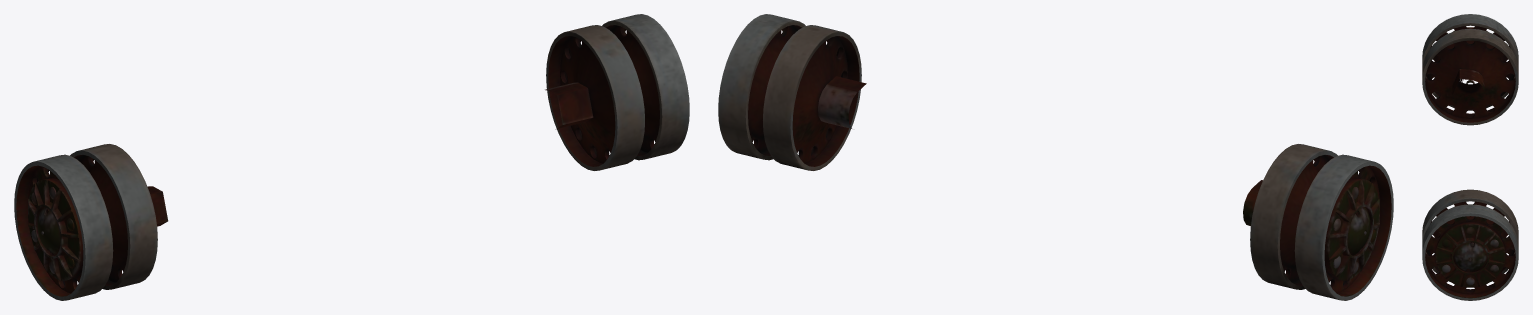
Rendered from medium_wheels_5.gltf.
3 renders of one model, left to right at view 1: azimuth 30°, elevation 25°; view 2: azimuth 150°, elevation 25°; view 3: azimuth 270°, elevation 25°, orthographic. The views are drawn at different scales.
Parts seen in each view (by area): view 1: wheels; view 2: wheels; view 3: wheels.
Boxes of the visible parts, bbox=[...] form: wheels: bbox=[14, 14, 689, 300]; wheels: bbox=[718, 14, 1393, 300]; wheels: bbox=[1422, 14, 1518, 300].
Bounding box in the file's own units: 0.5398 × 0.1078 × 0.1078.
1 material, 1 textured.
